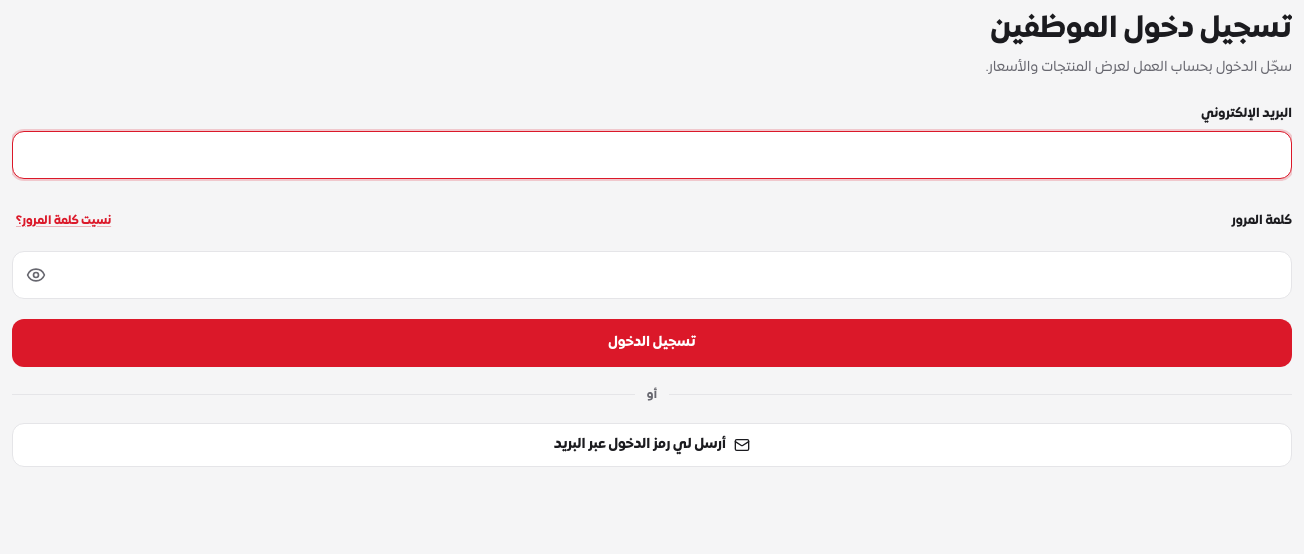
SignInForm (custom Clerk flow) › asks for the e-mail before sending a sign-in code
Click the button "أرسل لي رمز الدخول عبر البريد" at (652, 445), box x1=12 y1=423 x2=1292 y2=467
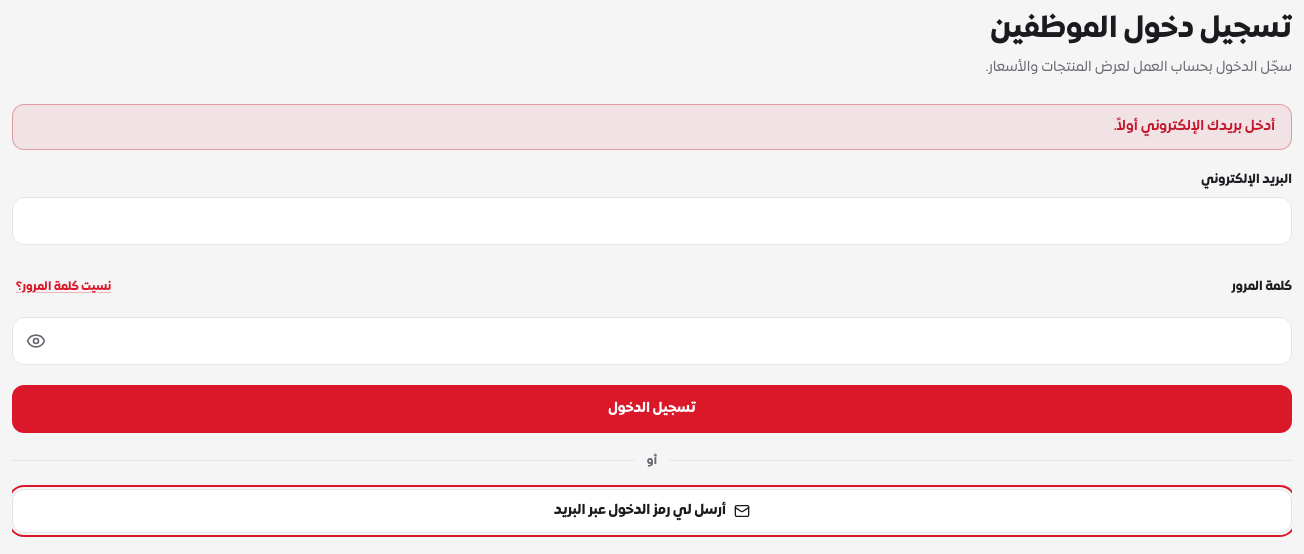
Now the message reads "أدخل بريدك الإلكتروني أولاً.", box x1=1114 y1=118 x2=1275 y2=135
